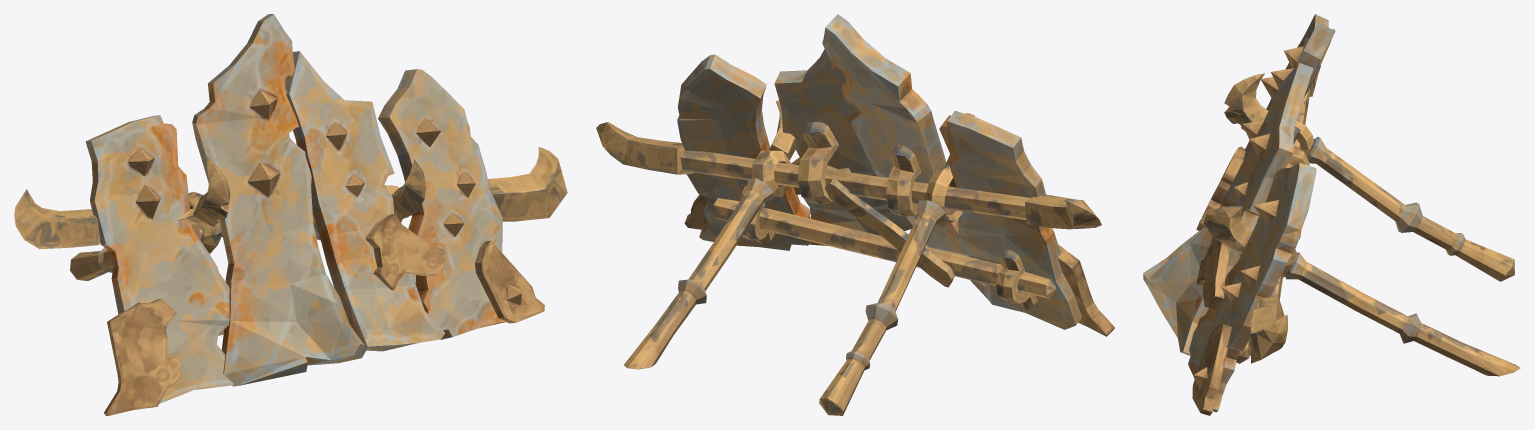
File: Barricade_D.fbx
3 views of the same model, side by side, from view 1: azimuth 30°, elevation 25°; view 2: azimuth 150°, elevation 25°; view 3: azimuth 270°, elevation 25° (orthographic). The views are drawn at different scales.
Parts seen in each view (by area): view 1: Dn_HL_Barricade_D.mo; view 2: Dn_HL_Barricade_D.mo; view 3: Dn_HL_Barricade_D.mo.
Boxes of the visible parts, x1=… form: Dn_HL_Barricade_D.mo: x1=14, y1=14, x2=567, y2=415; Dn_HL_Barricade_D.mo: x1=596, y1=14, x2=1114, y2=415; Dn_HL_Barricade_D.mo: x1=1143, y1=14, x2=1520, y2=415.
Size of the model in its own units: 562 by 321 by 363.
Materials: 1 (1 with a texture image).
